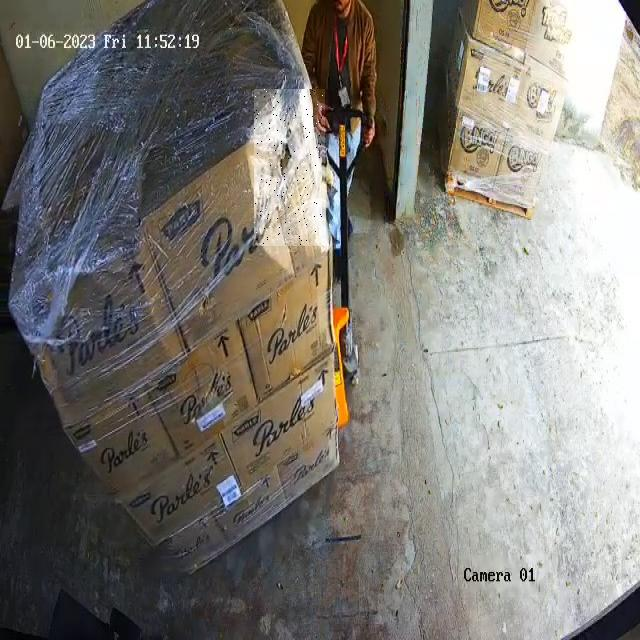squeeze: (255, 90, 323, 245)
